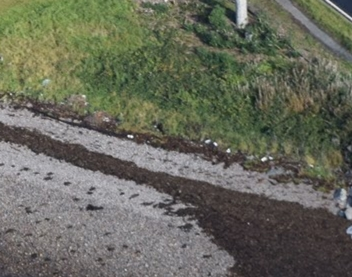scattered_barrel: (197, 126, 280, 169)
white_in_green: (112, 120, 148, 148)
